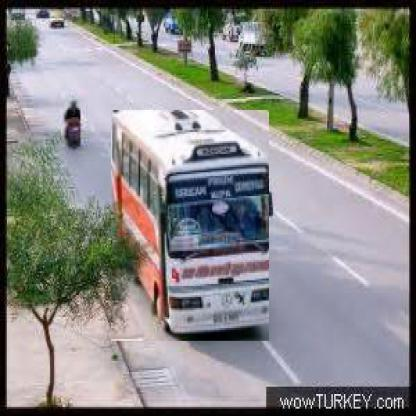bus: (112, 111, 271, 344)
motorbike: (62, 100, 83, 149)
